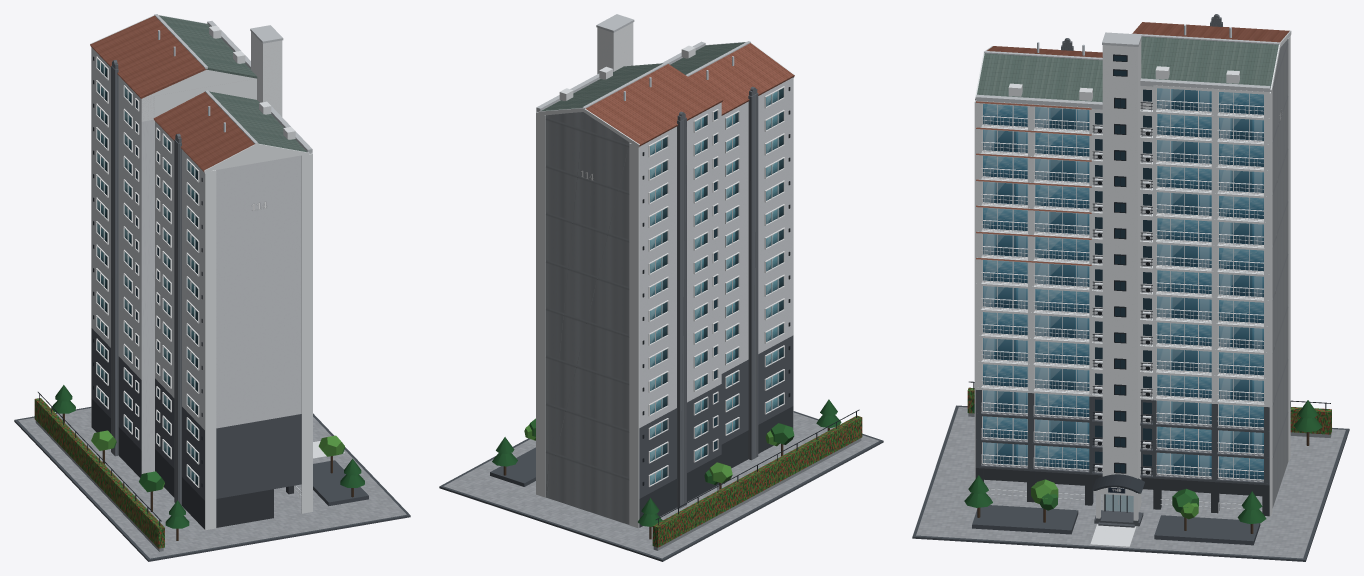
File: place_왕십리풍림아이원114.glb
The picture shows the model from 3 angles, left to right: view 1: azimuth 30°, elevation 25°; view 2: azimuth 150°, elevation 25°; view 3: azimuth 270°, elevation 25°; orthographic projection. The views are drawn at different scales.
Parts seen in each view (by area): view 1: Merged_Body_UpperWestGrey, Merged_Env_CourtyardPaver, Merged_Body_2F4FCharcoal, Merged_Side_WhiteBorder, Merged_Roof_WestTerracotta, Merged_Win_WhitePVC, Merged_West_FlutedPilaster, Merged_Glass_Rear, Merged_Side_SetbackReturn, Merged_Roof_EastSlateGreen, Merged_Body_PilotiDark, Merged_Env_WestIvy (+9 smaller); view 2: Merged_Side_FlutedGrey, Merged_Body_UpperWestGrey, Merged_Env_CourtyardPaver, Merged_Roof_WestTerracotta, Merged_Side_WhiteBorder, Merged_Glass_Rear, Merged_Win_WhitePVC, Merged_West_FlutedPilaster, Merged_Body_2F4FCharcoal, Merged_Env_WestIvy, Merged_Body_PilotiDark, Merged_Roof_EastSlateGreen (+8 smaller); view 3: Merged_Glass_FrontB, Merged_Glass_FrontA, Merged_Env_CourtyardPaver, Merged_Balc_WhiteRail, Merged_Core_WhiteShaft, Merged_Win_WhitePVC, Merged_East_SlabWhite, Merged_Roof_EastSlateGreen, Merged_East_PierWhite, Merged_Side_FlutedGrey, Merged_Env_Planters, Merged_Side_WhiteBorder (+24 smaller).
Part boxes in pixels (box(x1,y1,x2,y2)): Merged_Body_UpperWestGrey: box(91, 47, 301, 429); Merged_Env_CourtyardPaver: box(18, 408, 406, 558); Merged_Body_2F4FCharcoal: box(91, 328, 301, 500); Merged_Side_WhiteBorder: box(90, 15, 312, 530); Merged_Roof_WestTerracotta: box(90, 15, 254, 172); Merged_Win_WhitePVC: box(96, 56, 199, 487); Merged_West_FlutedPilaster: box(111, 65, 181, 505); Merged_Glass_Rear: box(97, 59, 197, 485); Merged_Side_SetbackReturn: box(141, 96, 154, 473); Merged_Roof_EastSlateGreen: box(159, 15, 306, 152); Merged_Body_PilotiDark: box(91, 399, 273, 529); Merged_Env_WestIvy: box(34, 398, 164, 548); Merged_Side_FlutedGrey: box(545, 112, 629, 524); Merged_Body_UpperWestGrey: box(639, 77, 793, 427); Merged_Env_CourtyardPaver: box(443, 412, 879, 558); Merged_Roof_WestTerracotta: box(585, 43, 794, 146); Merged_Side_WhiteBorder: box(536, 42, 794, 528); Merged_Glass_Rear: box(650, 88, 783, 485); Merged_Win_WhitePVC: box(648, 86, 784, 486); Merged_West_FlutedPilaster: box(677, 93, 758, 508); Merged_Body_2F4FCharcoal: box(639, 335, 793, 498); Merged_Env_WestIvy: box(652, 415, 862, 547); Merged_Body_PilotiDark: box(639, 406, 793, 527); Merged_Roof_EastSlateGreen: box(541, 42, 745, 111); Merged_Glass_FrontB: box(983, 88, 1263, 476); Merged_Glass_FrontA: box(983, 92, 1263, 479); Merged_Env_CourtyardPaver: box(916, 407, 1345, 558); Merged_Balc_WhiteRail: box(981, 100, 1263, 481); Merged_Core_WhiteShaft: box(1102, 39, 1141, 512); Merged_Win_WhitePVC: box(982, 88, 1263, 480); Merged_East_SlabWhite: box(975, 85, 1269, 407); Merged_Roof_EastSlateGreen: box(977, 36, 1278, 102); Merged_East_PierWhite: box(975, 87, 1269, 404); Merged_Side_FlutedGrey: box(1272, 39, 1288, 507); Merged_Env_Planters: box(972, 505, 1260, 545); Merged_Side_WhiteBorder: box(974, 30, 1291, 516).
Size of the model in its own units: 35 by 49.94 by 41.81.
Materials: 35 (13 with a texture image).
